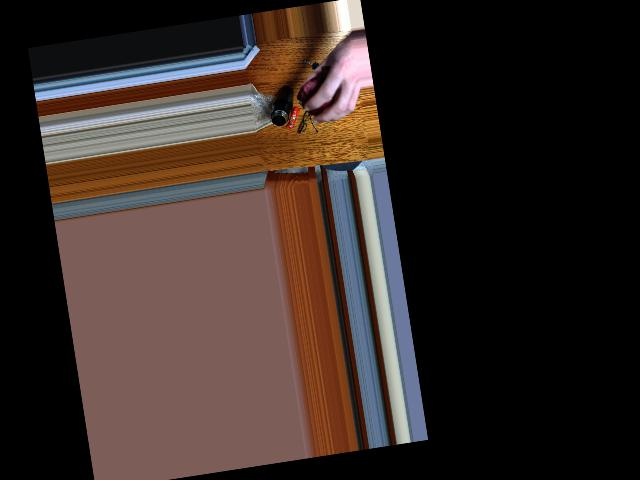onion: (300, 76, 338, 116)
